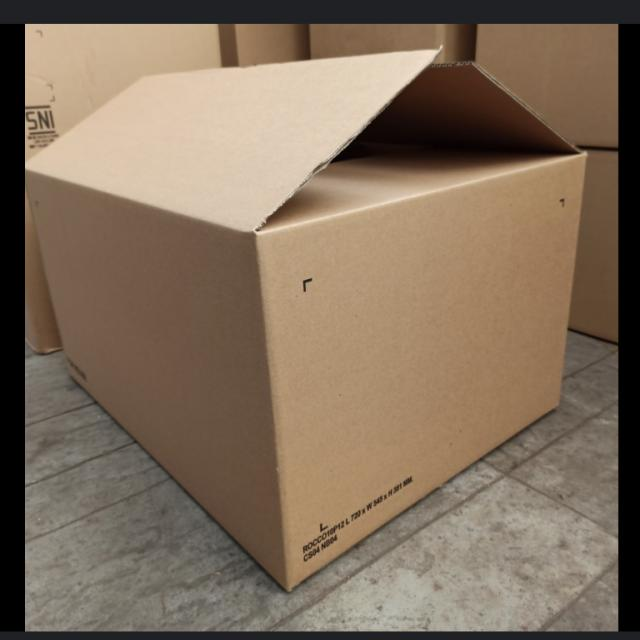Kardus: (25, 45, 589, 592)
